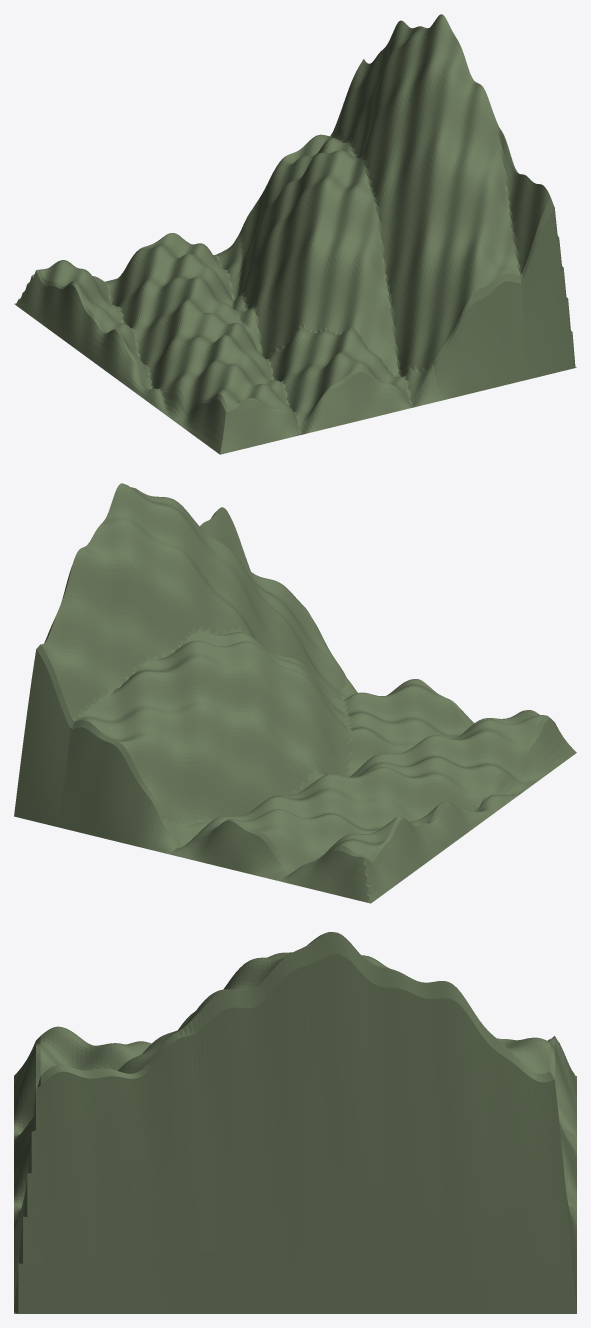
Rendered from sapphire_tidepool_cliffs.obj.
The picture shows the model from 3 angles, top to bottom: view 1: azimuth 30°, elevation 25°; view 2: azimuth 150°, elevation 25°; view 3: azimuth 270°, elevation 25°; orthographic projection. The views are drawn at different scales.
Visible parts, largest first — view 1: sapphire_tidepool_cliffs; view 2: sapphire_tidepool_cliffs; view 3: sapphire_tidepool_cliffs.
Part boxes in pixels (x1=…): sapphire_tidepool_cliffs: x1=14, y1=14, x2=576, y2=454; sapphire_tidepool_cliffs: x1=14, y1=483, x2=576, y2=903; sapphire_tidepool_cliffs: x1=14, y1=932, x2=576, y2=1313.
Size of the model in its own units: 28 by 21.16 by 28.
